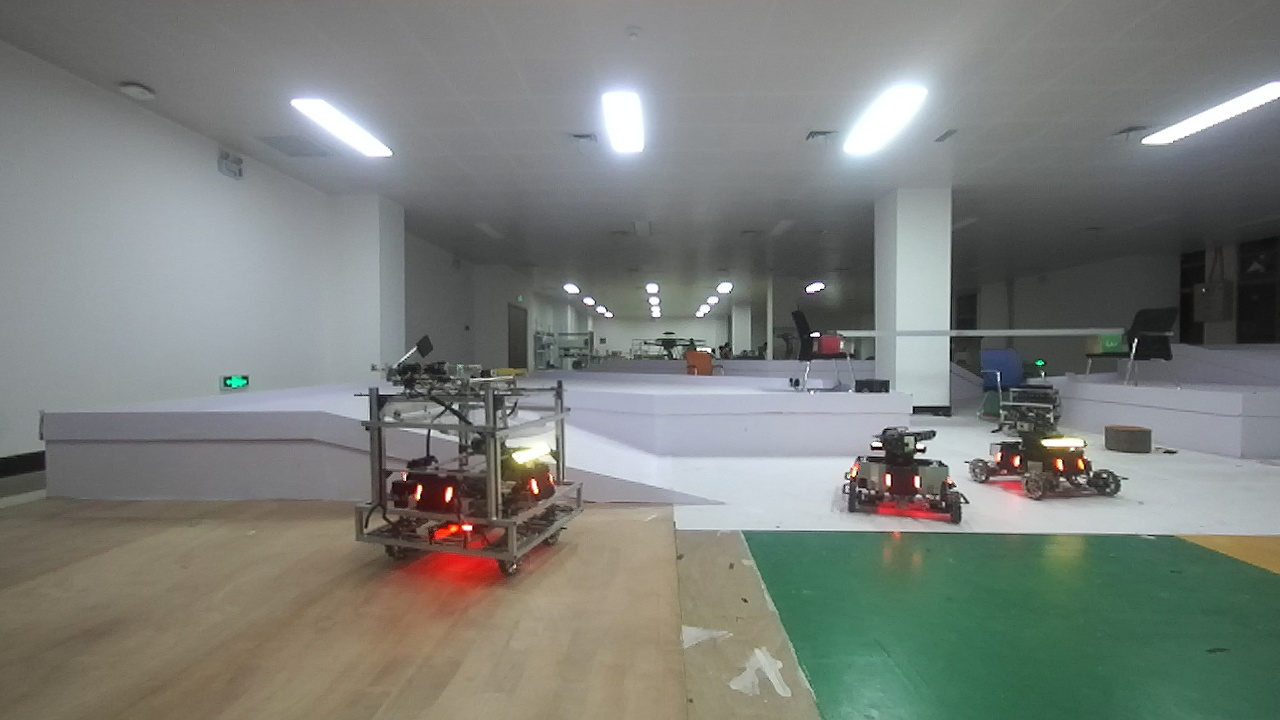car: (346, 344, 583, 586), (972, 391, 1142, 517), (838, 415, 972, 534)
